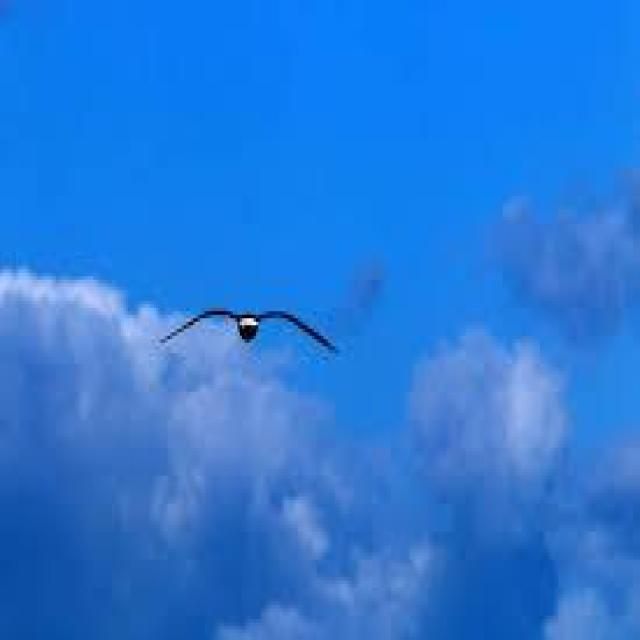bird: (149, 290, 340, 372)
